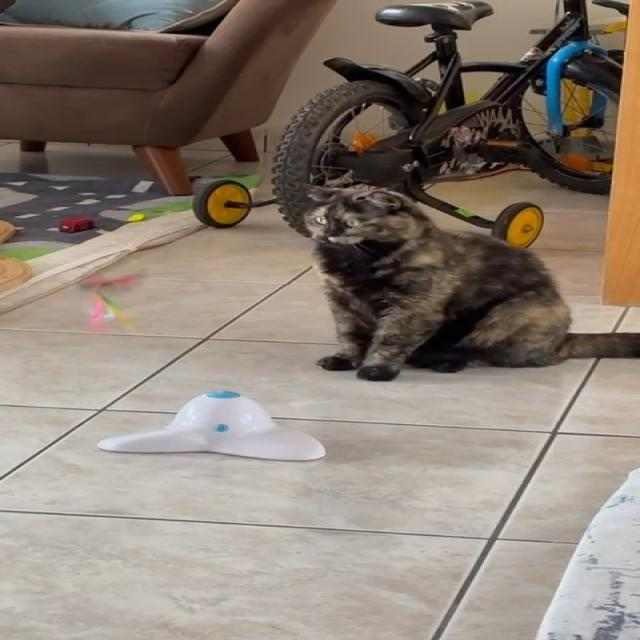authorized: (291, 181, 638, 381)
